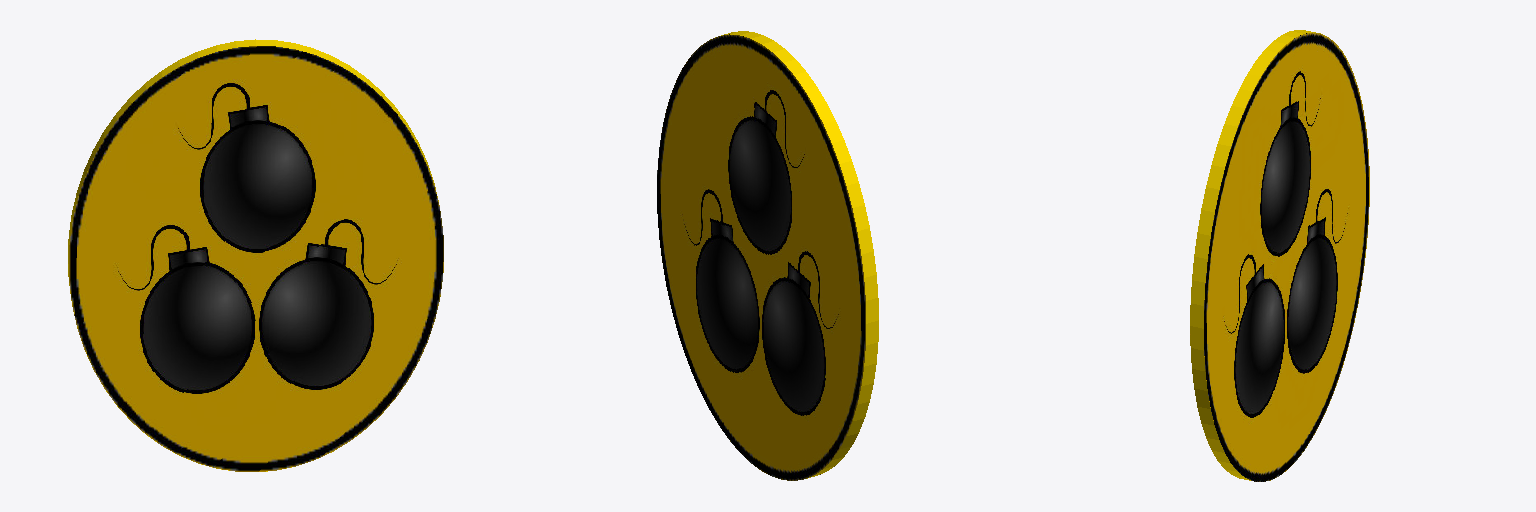
3 renders of one model, left to right at view 1: azimuth 30°, elevation 25°; view 2: azimuth 150°, elevation 25°; view 3: azimuth 270°, elevation 25°, orthographic.
Visible parts, largest first — view 1: Circle.001_Circle.000, Circle.006; view 2: Circle.005, Circle.006; view 3: Circle.005, Circle.006.
Part boxes in pixels (x1,y1,x2,y2): Circle.001_Circle.000: (69,46,443,471); Circle.006: (68,39,443,471); Circle.005: (657,35,865,480); Circle.006: (710,31,878,478); Circle.005: (1204,33,1369,481); Circle.006: (1190,30,1320,480).
Bounding box in the file's own units: 3.66 × 5 × 1.91.
3 materials, 2 textured.